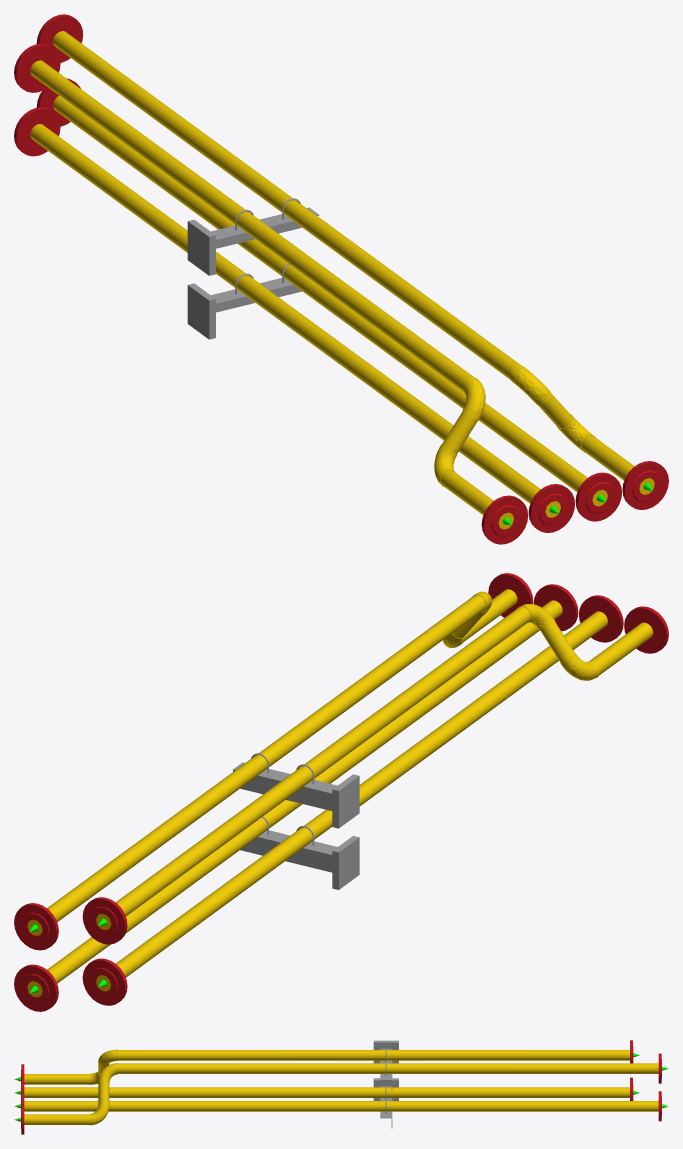
The model's file is Phase46 (2).fbx.
3 renders of one model, top to bottom at view 1: azimuth 30°, elevation 25°; view 2: azimuth 150°, elevation 25°; view 3: azimuth 270°, elevation 25°, orthographic. The views are drawn at different scales.
Visible parts, largest first — view 1: Типы трубопроводов:Нержавеющая сталь - 12х18н10т:1532683, Типы трубопроводов:Нержавеющая сталь - 12х18н10т:1532591, Сталь нержавеющая Фланец (×7), Типы трубопроводов:Нержавеющая сталь - 12х18н10т:1546606, Типы трубопроводов:Нержавеющая сталь - 12х18н10т:1546212, Сталь нержавеющая (×5), Типы трубопроводов:Нержавеющая сталь - 12х18н10т:1546604, Типы трубопроводов:Нержавеющая сталь - 12х18н10т:1532587, ADSK_СтальСварка_Отвод_ГОСТ17375-2001:Исполнение 1_Неоцинков; view 2: Сталь нержавеющая Фланец (×8), Типы трубопроводов:Нержавеющая сталь - 12х18н10т:1532683, Типы трубопроводов:Нержавеющая сталь - 12х18н10т:1532591, Типы трубопроводов:Нержавеющая сталь - 12х18н10т:1546606, Типы трубопроводов:Нержавеющая сталь - 12х18н10т:1546212, Сталь нержавеющая (×4), Типы трубопроводов:Нержавеющая сталь - 12х18н10т:1546604, Типы трубопроводов:Нержавеющая сталь - 12х18н10т:1532587, Типы трубопроводов:Нержавеющая сталь - 12х18н10т:1546608, ADSK_СтальСварка_Отвод_ГОСТ17375-2001:Исполнение 1_Неоцинков; view 3: Типы трубопроводов:Нержавеющая сталь - 12х18н10т:1546212, Типы трубопроводов:Нержавеющая сталь - 12х18н10т:1532683, Типы трубопроводов:Нержавеющая сталь - 12х18н10т:1532591, Типы трубопроводов:Нержавеющая сталь - 12х18н10т:1546606, Сталь нержавеющая (×6), Типы трубопроводов:Нержавеющая сталь - 12х18н10т:1532587, Типы трубопроводов:Нержавеющая сталь - 12х18н10т:1546604, Типы трубопроводов:Нержавеющая сталь - 12х18н10т:1532589, ADSK_СтальСварка_Отвод_ГОСТ17375-2001:Исполнение 1_Неоцинков.
Boxes of the visible parts, bbox=[...] form: Типы трубопроводов:Нержавеющая сталь - 12х18н10т:1532683: bbox=[30, 124, 560, 517]; Типы трубопроводов:Нержавеющая сталь - 12х18н10т:1532591: bbox=[53, 31, 521, 379]; Сталь нержавеющая Фланец (×7): bbox=[14, 14, 668, 544]; Типы трубопроводов:Нержавеющая сталь - 12х18н10т:1546606: bbox=[30, 60, 473, 391]; Типы трубопроводов:Нержавеющая сталь - 12х18н10т:1546212: bbox=[53, 96, 607, 506]; Сталь нержавеющая (×5): bbox=[187, 207, 551, 405]; Типы трубопроводов:Нержавеющая сталь - 12х18н10т:1546604: bbox=[440, 470, 513, 529]; Типы трубопроводов:Нержавеющая сталь - 12х18н10т:1532587: bbox=[581, 436, 654, 494]; ADSK_СтальСварка_Отвод_ГОСТ17375-2001:Исполнение 1_Неоцинков: bbox=[462, 377, 485, 420]; Сталь нержавеющая Фланец (×8): bbox=[14, 573, 668, 1011]; Типы трубопроводов:Нержавеющая сталь - 12х18н10т:1532683: bbox=[96, 611, 607, 990]; Типы трубопроводов:Нержавеющая сталь - 12х18н10т:1532591: bbox=[27, 595, 485, 935]; Типы трубопроводов:Нержавеющая сталь - 12х18н10т:1546606: bbox=[96, 606, 531, 929]; Типы трубопроводов:Нержавеющая сталь - 12х18н10т:1546212: bbox=[27, 600, 562, 997]; Сталь нержавеющая (×4): bbox=[233, 762, 359, 889]; Типы трубопроводов:Нержавеющая сталь - 12х18н10т:1546604: bbox=[589, 622, 653, 674]; Типы трубопроводов:Нержавеющая сталь - 12х18н10т:1532587: bbox=[464, 589, 517, 641]; Типы трубопроводов:Нержавеющая сталь - 12х18н10т:1546608: bbox=[540, 622, 575, 662]; ADSK_СтальСварка_Отвод_ГОСТ17375-2001:Исполнение 1_Неоцинков: bbox=[560, 653, 600, 680]; Типы трубопроводов:Нержавеющая сталь - 12х18н10т:1546212: bbox=[24, 1101, 658, 1111]; Типы трубопроводов:Нержавеющая сталь - 12х18н10т:1532683: bbox=[24, 1087, 629, 1097]; Типы трубопроводов:Нержавеющая сталь - 12х18н10т:1532591: bbox=[118, 1063, 658, 1073]; Типы трубопроводов:Нержавеющая сталь - 12х18н10т:1546606: bbox=[118, 1050, 629, 1060]; Сталь нержавеющая (×6): bbox=[89, 1042, 398, 1128]; Типы трубопроводов:Нержавеющая сталь - 12х18н10т:1532587: bbox=[24, 1114, 89, 1124]; Типы трубопроводов:Нержавеющая сталь - 12х18н10т:1546604: bbox=[24, 1074, 89, 1084]; Типы трубопроводов:Нержавеющая сталь - 12х18н10т:1532589: bbox=[98, 1081, 109, 1105]; ADSK_СтальСварка_Отвод_ГОСТ17375-2001:Исполнение 1_Неоцинков: bbox=[98, 1049, 117, 1066].
Bounding box in the file's own units: 670 × 3475 × 429.
